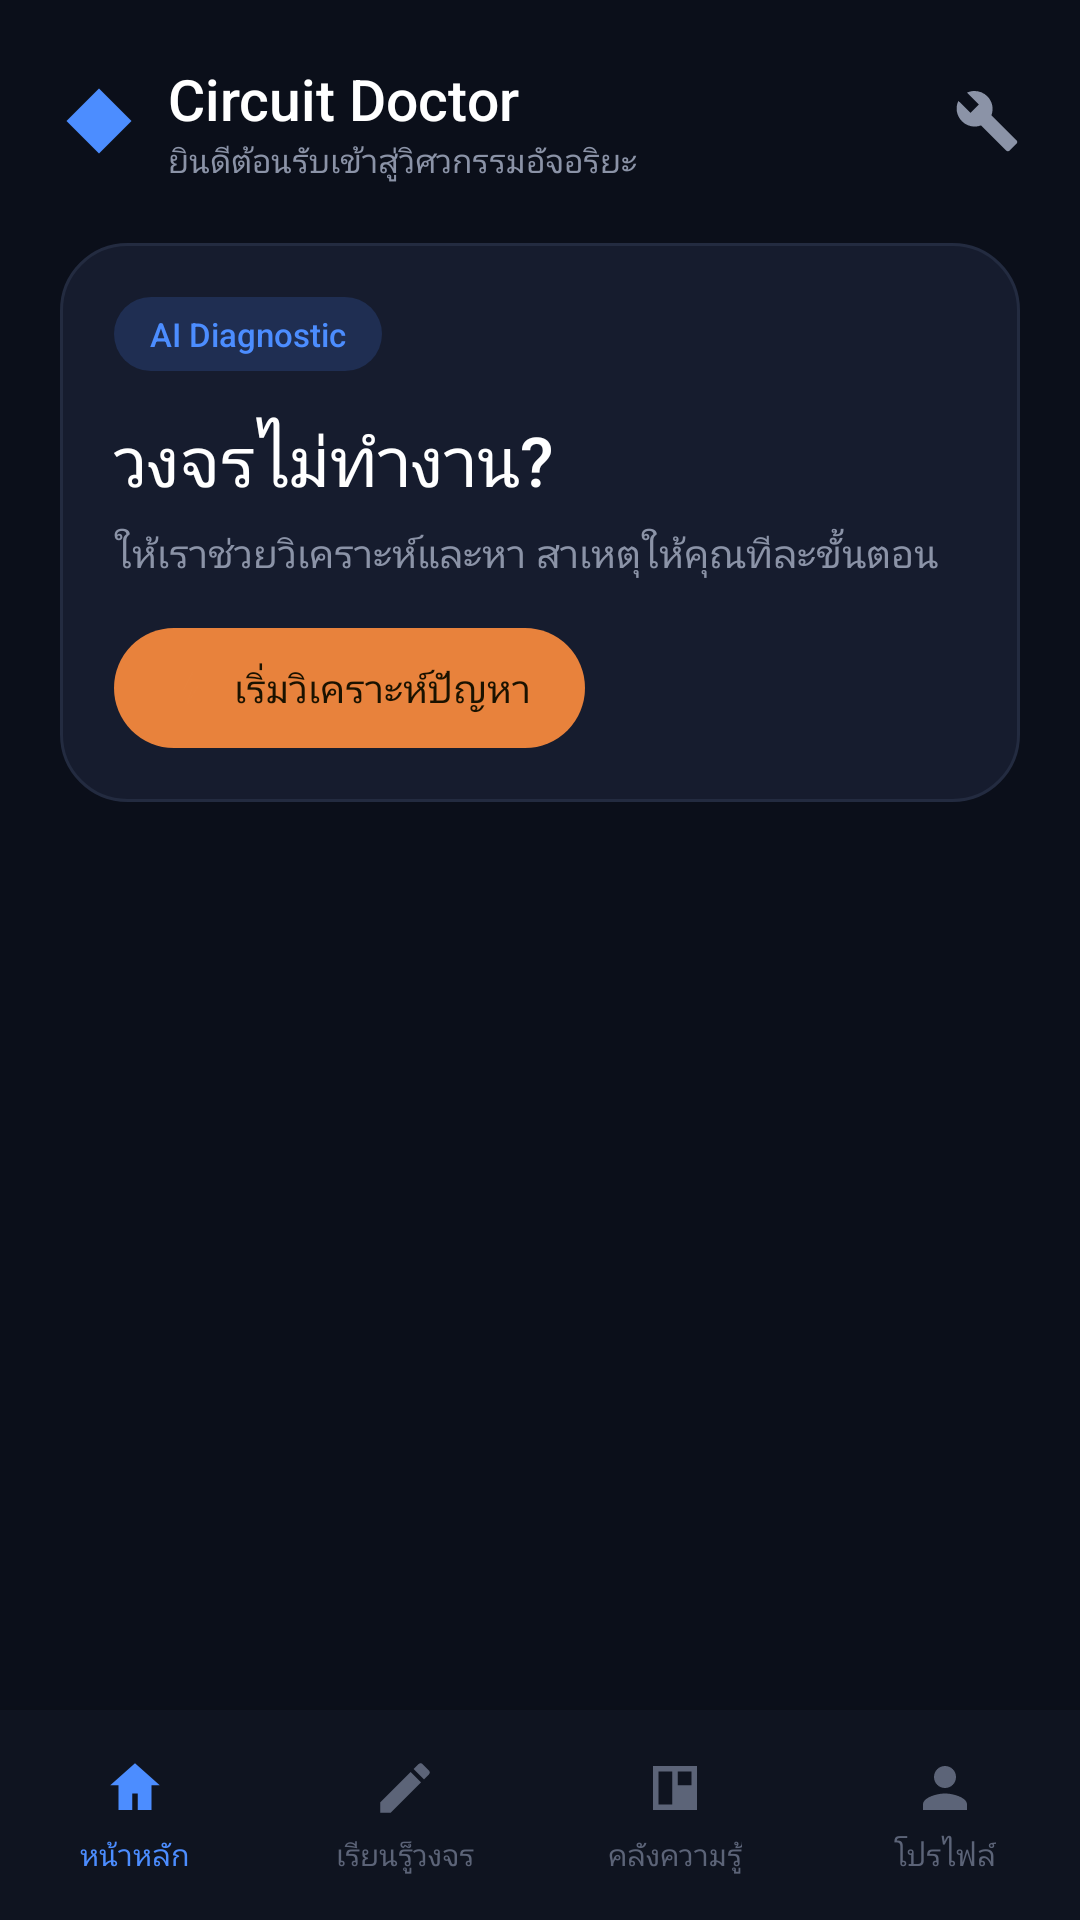

Where to tap for icons on this 1080w x 1920h app screen, as point (x, y):
wrench: point (986, 121)
write: point (405, 1788)
